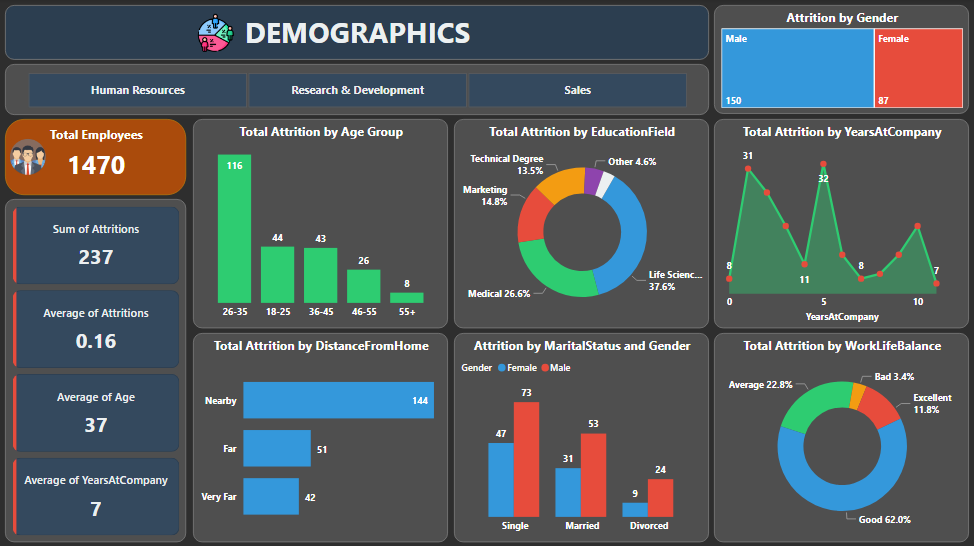

This screenshot's page, from the dashboard's own definition file:
{"tool":"powerbi","page":{"name":"Demographics","canvas":[1280,720],"ordinal":1},"visuals":[{"type":"donutChart","title":"Total Attrition by EducationField","fields":{"Category":["HR-Employee-Attrition.EducationField"],"Y":["Sum(HR-Employee-Attrition.Attrition Count)"]},"box":[596.5,157.7,335,274.6],"z":0},{"type":"columnChart","title":"Total Attrition by Age Group","fields":{"Category":["HR-Employee-Attrition.Age Group"],"Y":["Sum(HR-Employee-Attrition.Attrition Count)"]},"box":[253.6,157.7,335,274.6],"z":1000},{"type":"treemap","title":"Attrition by Gender","fields":{"Group":["HR-Employee-Attrition.Gender"],"Values":["Sum(HR-Employee-Attrition.Attrition Count)"]},"box":[938.1,7.9,335,143.2],"z":2000},{"type":"clusteredColumnChart","title":"Attrition by MaritalStatus and Gender","fields":{"Category":["HR-Employee-Attrition.MaritalStatus"],"Y":["Sum(HR-Employee-Attrition.Attrition Count)"],"Series":["HR-Employee-Attrition.Gender"]},"box":[596.5,438.8,335,274.6],"z":3000},{"type":"barChart","title":"Total Attrition by DistanceFromHome","fields":{"Y":["Sum(HR-Employee-Attrition.Attrition Count)"],"Category":["HR-Employee-Attrition.Distanceofhome"]},"box":[253.6,438.8,335,274.6],"z":4000},{"type":"donutChart","title":"Total Attrition by WorkLifeBalance","fields":{"Series":["HR-Employee-Attrition.WorkLifeBalanced"],"Y":["Sum(HR-Employee-Attrition.Attrition Count)"]},"box":[938.1,438.8,335,274.6],"z":5000},{"type":"card","title":"Total Employees","fields":{"Values":["CountNonNull(HR-Employee-Attrition.Attrition)"]},"box":[6.6,157.7,237.8,100],"z":6000},{"type":"cardVisual","fields":{"Data":["Sum(HR-Employee-Attrition.Attrition Count)","Avg(HR-Employee-Attrition.Attrition Count)","Avg(HR-Employee-Attrition.Age)","Avg(HR-Employee-Attrition.YearsAtCompany)"]},"box":[6.6,262.8,237.8,450.7],"z":7000},{"type":"areaChart","title":"Total Attrition by YearsAtCompany","fields":{"Category":["HR-Employee-Attrition.YearsAtCompany"],"Y":["Sum(HR-Employee-Attrition.Attrition Count)"]},"box":[938.1,157.7,335,274.6],"z":8000},{"type":"textbox","box":[6.6,7.9,925,72.3],"z":9000},{"type":"slicer","fields":{"Values":["HR-Employee-Attrition.Department"]},"box":[6.6,85.4,925,67],"z":10000},{"type":"image","box":[6.6,177.4,60.4,60.4],"z":11000},{"type":"image","box":[253.6,14.5,60.4,60.4],"z":11001}]}

Visuals, with their boxes in screenshot pixels (x1, y1, x2, y2), scaled from the page's 1280x720 canvas onto the 974x546 screenshot:
"Total Attrition by EducationField" donutChart: <bbox>454, 120, 709, 328</bbox>
"Total Attrition by Age Group" columnChart: <bbox>193, 120, 448, 328</bbox>
"Attrition by Gender" treemap: <bbox>714, 6, 969, 115</bbox>
"Attrition by MaritalStatus and Gender" clusteredColumnChart: <bbox>454, 333, 709, 541</bbox>
"Total Attrition by DistanceFromHome" barChart: <bbox>193, 333, 448, 541</bbox>
"Total Attrition by WorkLifeBalance" donutChart: <bbox>714, 333, 969, 541</bbox>
"Total Employees" card: <bbox>5, 120, 186, 195</bbox>
cardVisual - Sum(HR-Employee-Attrition.Attrition Count) x Avg(HR-Employee-Attrition.Attrition Count): <bbox>5, 199, 186, 541</bbox>
"Total Attrition by YearsAtCompany" areaChart: <bbox>714, 120, 969, 328</bbox>
textbox: <bbox>5, 6, 709, 61</bbox>
slicer - HR-Employee-Attrition.Department: <bbox>5, 65, 709, 116</bbox>
image: <bbox>5, 135, 51, 180</bbox>
image: <bbox>193, 11, 239, 57</bbox>
